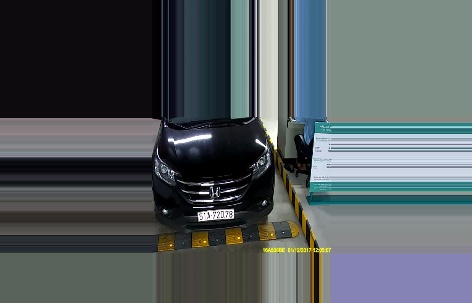plate: (194, 207, 237, 222)
